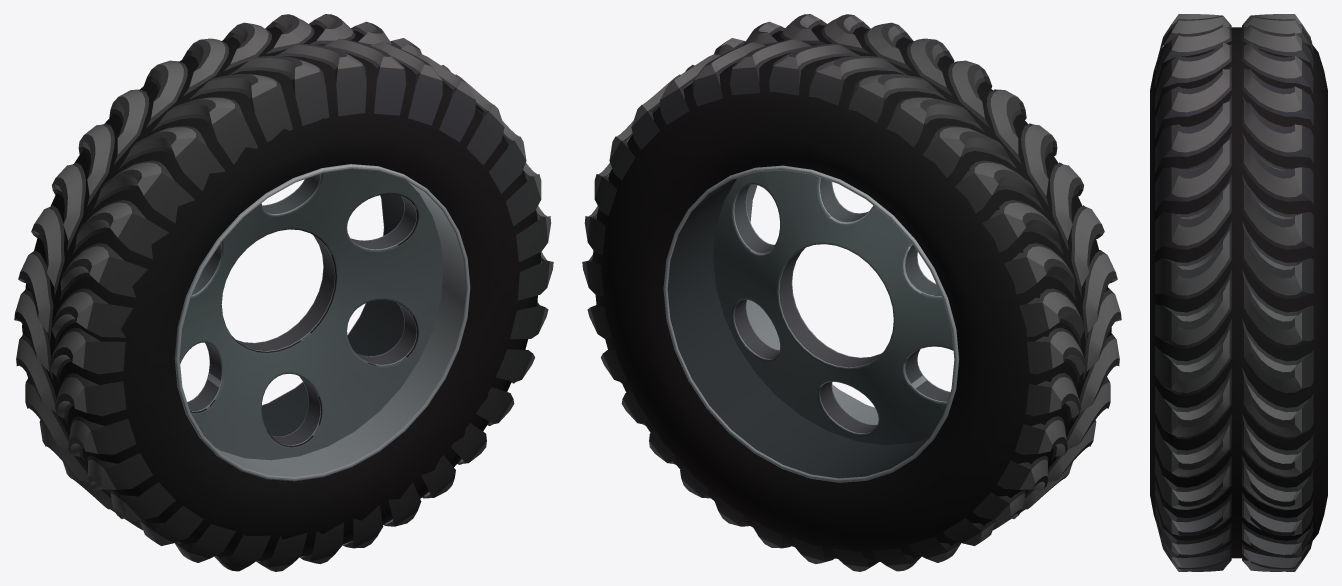
The model's file is wheel_11.fbx.
The picture shows the model from 3 angles, left to right: view 1: azimuth 30°, elevation 25°; view 2: azimuth 150°, elevation 25°; view 3: azimuth 270°, elevation 25°; orthographic projection.
Parts seen in each view (by area): view 1: wheel_11; view 2: wheel_11; view 3: wheel_11.
Part boxes in pixels (x1,y1,x2,y2): wheel_11: [14, 14, 553, 571]; wheel_11: [582, 14, 1121, 571]; wheel_11: [1150, 14, 1327, 571].
Size of the model in its own units: 120 by 119 by 38.12.
